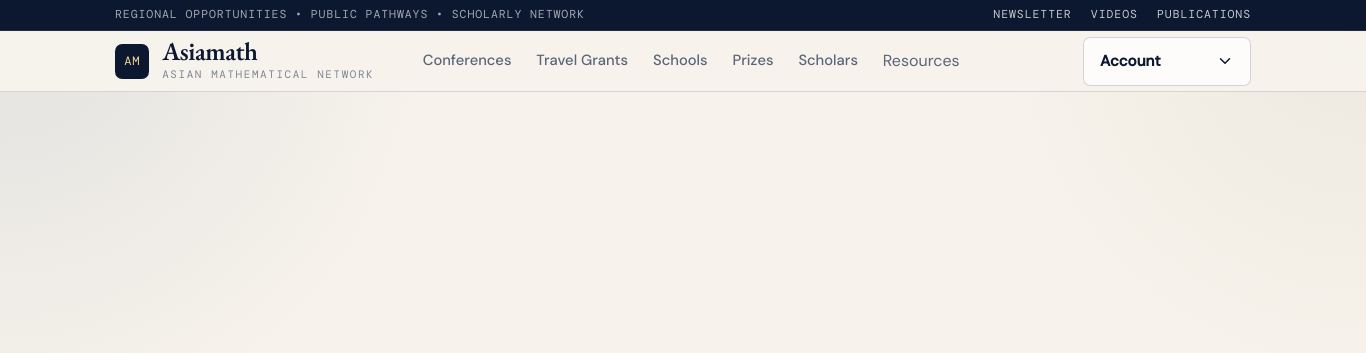
Test: PublicPortalNav › shows an account menu instead of Sign in for authenticated applicants
Check: the link "My Dashboard" is not shown
Click the button "Account". click: click(1167, 61)
box: x1=1083 y1=37 x2=1251 y2=86
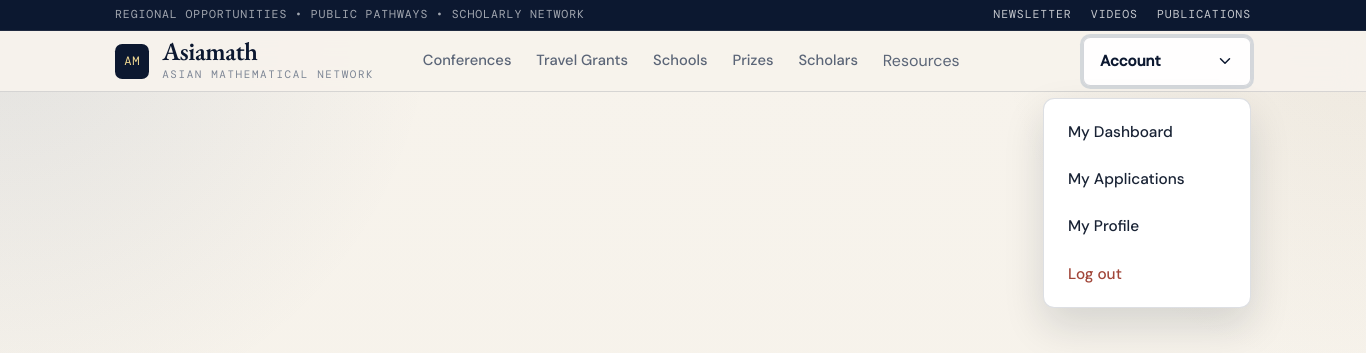
Check: the button "Log out" is shown, box x1=1055 y1=252 x2=1239 y2=296
